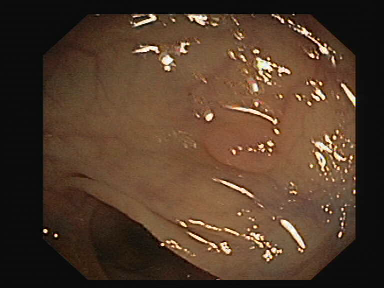polyp: (181, 87, 302, 193)
